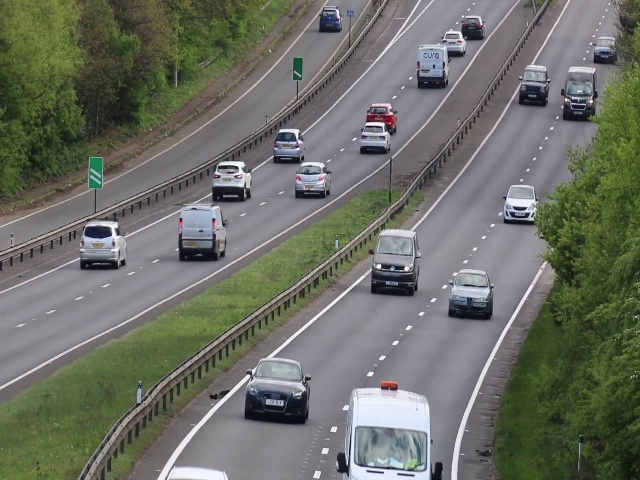car: (339, 393, 440, 480), (239, 355, 313, 425), (368, 230, 419, 293), (175, 204, 230, 262), (444, 268, 496, 322), (77, 217, 128, 270), (209, 157, 255, 200), (562, 68, 596, 123), (501, 178, 537, 225), (515, 62, 552, 107), (415, 45, 449, 88), (294, 159, 331, 195), (272, 121, 303, 160), (357, 119, 392, 152), (363, 101, 401, 125), (317, 4, 345, 34), (460, 13, 486, 40), (593, 34, 615, 65), (441, 29, 467, 55)
